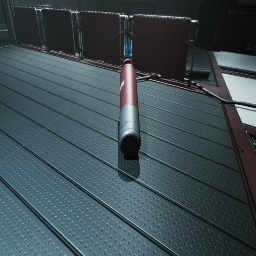NitrogenTank ,: (119, 58, 141, 157)
